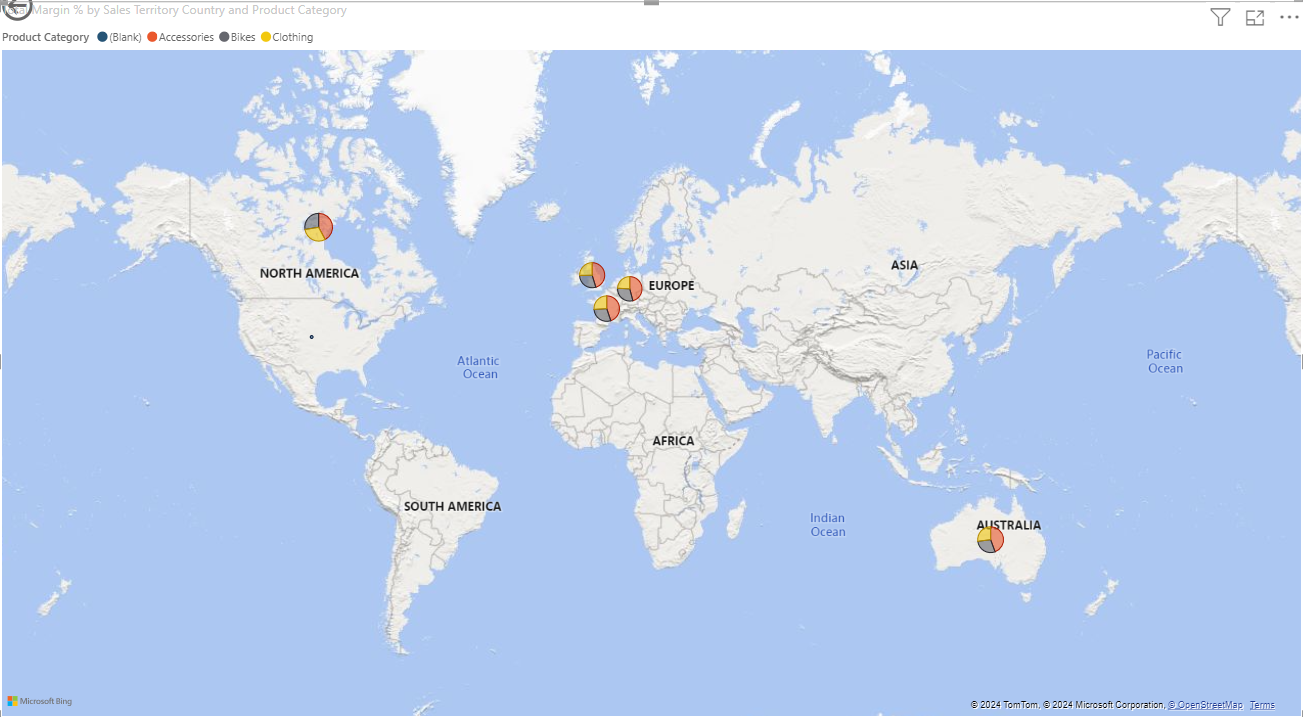

The page's visual inventory and layout, read from the dashboard file:
{"tool":"powerbi","page":{"name":"Page 1","canvas":[1280,720],"ordinal":4},"visuals":[{"type":"map","fields":{"Category":["Sales Territory.Sales Territory Country"],"Series":["Sales Product.Product Hierarchy.Product Category"],"Size":["Sales.Total Margin %"]},"box":[0,15.9,1280.3,704.5],"z":0},{"type":"actionButton","box":[0,0,100,40],"z":1000}]}

Visuals, with their boxes on the page's 1280x720 design canvas (x1, y1, x2, y2). These are canvas units, not pixel positions in the 1303x717 screenshot, which may show the page scaled, cropped or inside an application window:
map - Sales Territory.Sales Territory Country x Sales Product.Product Hierarchy.Product Category: box=[0, 16, 1280, 720]
actionButton: box=[0, 0, 100, 40]
